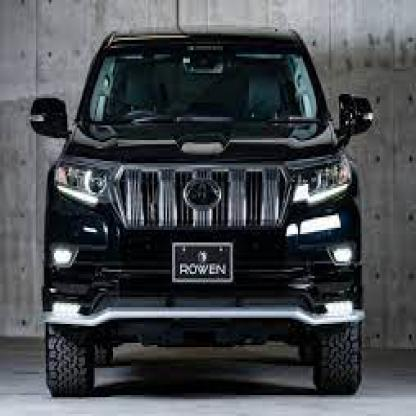jeep: (29, 25, 372, 397)
